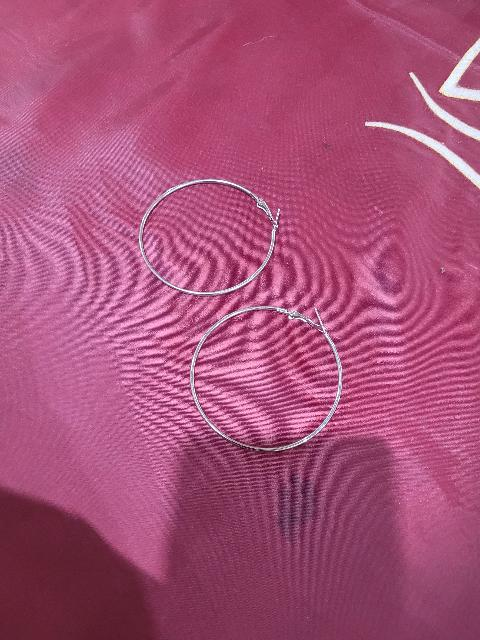Metal: (183, 303, 346, 455), (138, 178, 283, 299)
